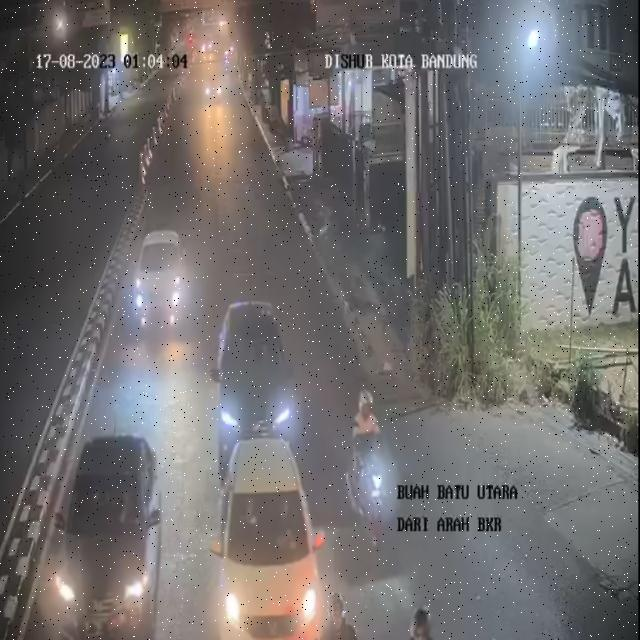cars: (47, 432, 167, 640), (214, 435, 332, 640), (214, 292, 301, 482), (134, 224, 195, 342)
motorcycle: (348, 382, 396, 526), (315, 592, 358, 640), (392, 600, 442, 640)
